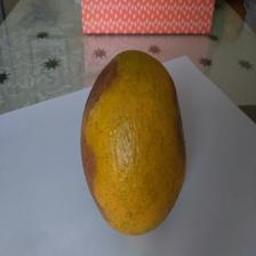Orange Semirotten: (65, 35, 202, 233)
